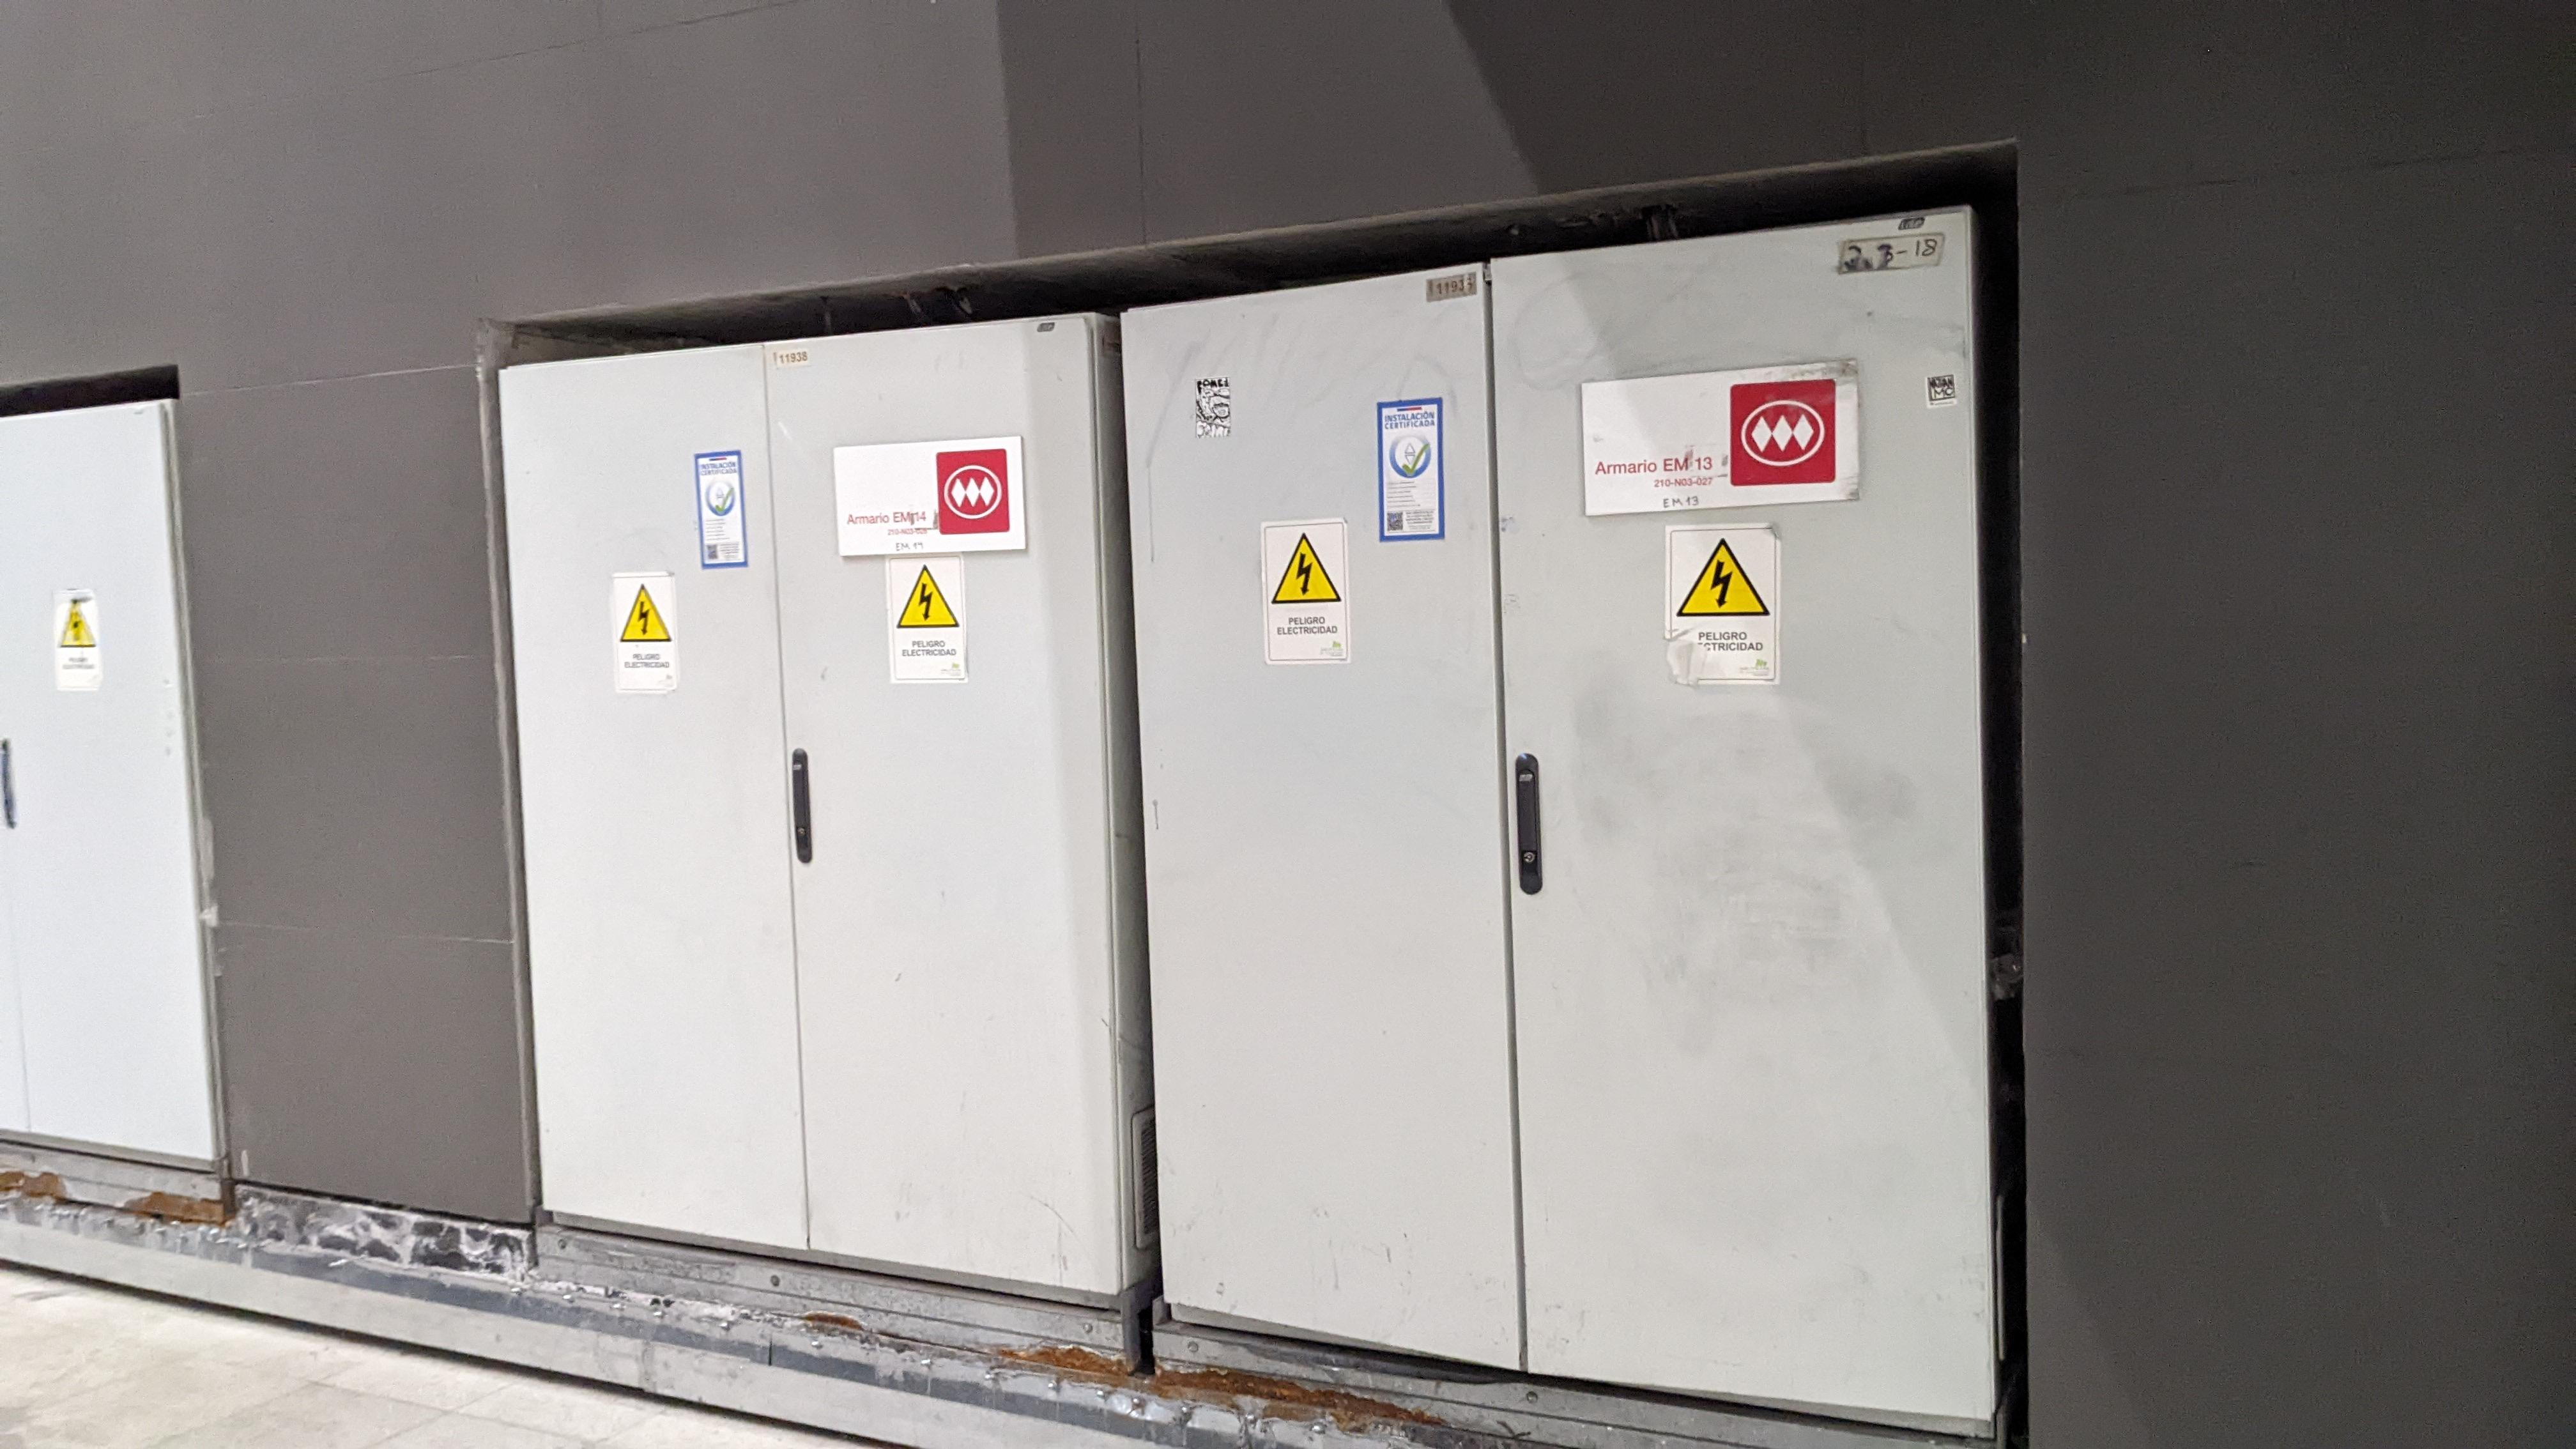danger-electricity: (1672, 533, 1776, 625), (1270, 529, 1346, 609), (895, 564, 959, 635), (621, 582, 674, 648), (58, 600, 94, 651)
